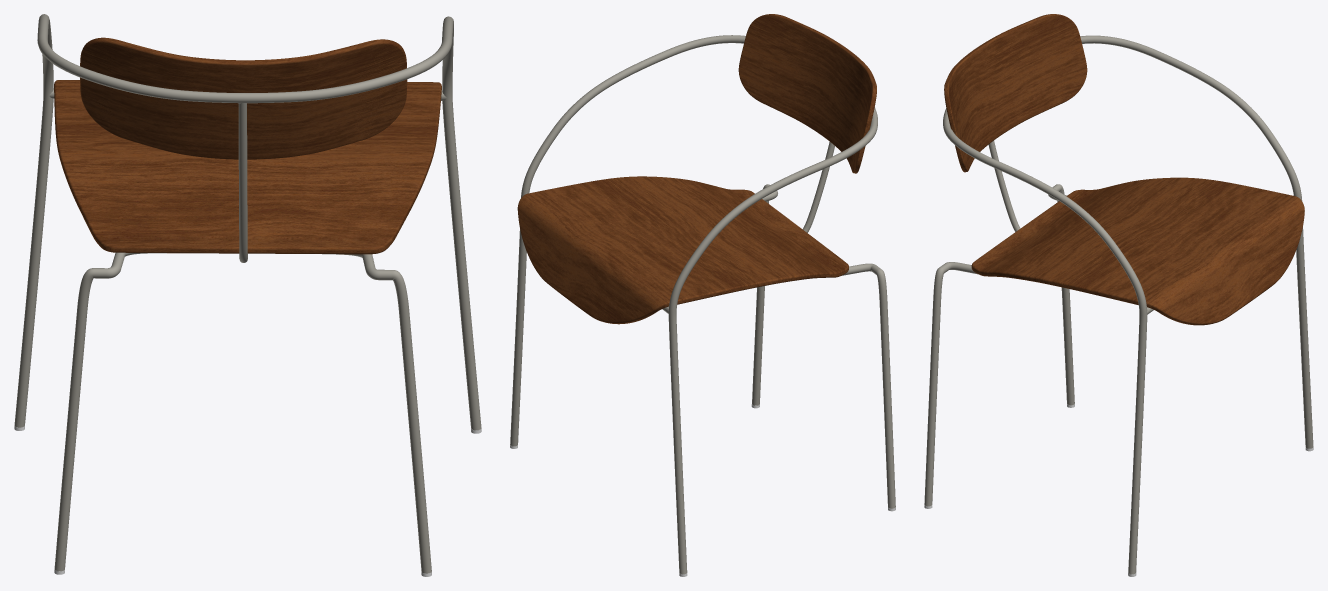
Rendered from tuoli.fbx.
3 renders of one model, left to right at view 1: azimuth 30°, elevation 25°; view 2: azimuth 150°, elevation 25°; view 3: azimuth 270°, elevation 25°, orthographic. The views are drawn at different scales.
Visible parts, largest first — view 1: cushion, back, metal support.001, metal support; view 2: cushion, metal support.001, back, metal support; view 3: cushion, back, metal support.001, metal support.
Part boxes in pixels (left/top/right/bottom): cushion: left=54, top=80, right=441, bottom=254; back: left=80, top=37, right=407, bottom=159; metal support.001: left=14, top=14, right=481, bottom=573; metal support: left=238, top=103, right=247, bottom=262; cushion: left=517, top=176, right=848, bottom=324; metal support.001: left=510, top=35, right=895, bottom=574; back: left=738, top=14, right=876, bottom=173; metal support: left=802, top=142, right=834, bottom=232; cushion: left=971, top=177, right=1304, bottom=325; back: left=944, top=14, right=1087, bottom=172; metal support.001: left=924, top=35, right=1313, bottom=574; metal support: left=988, top=140, right=1020, bottom=231.
Size of the model in its own units: 72.25 by 79.21 by 68.89.
